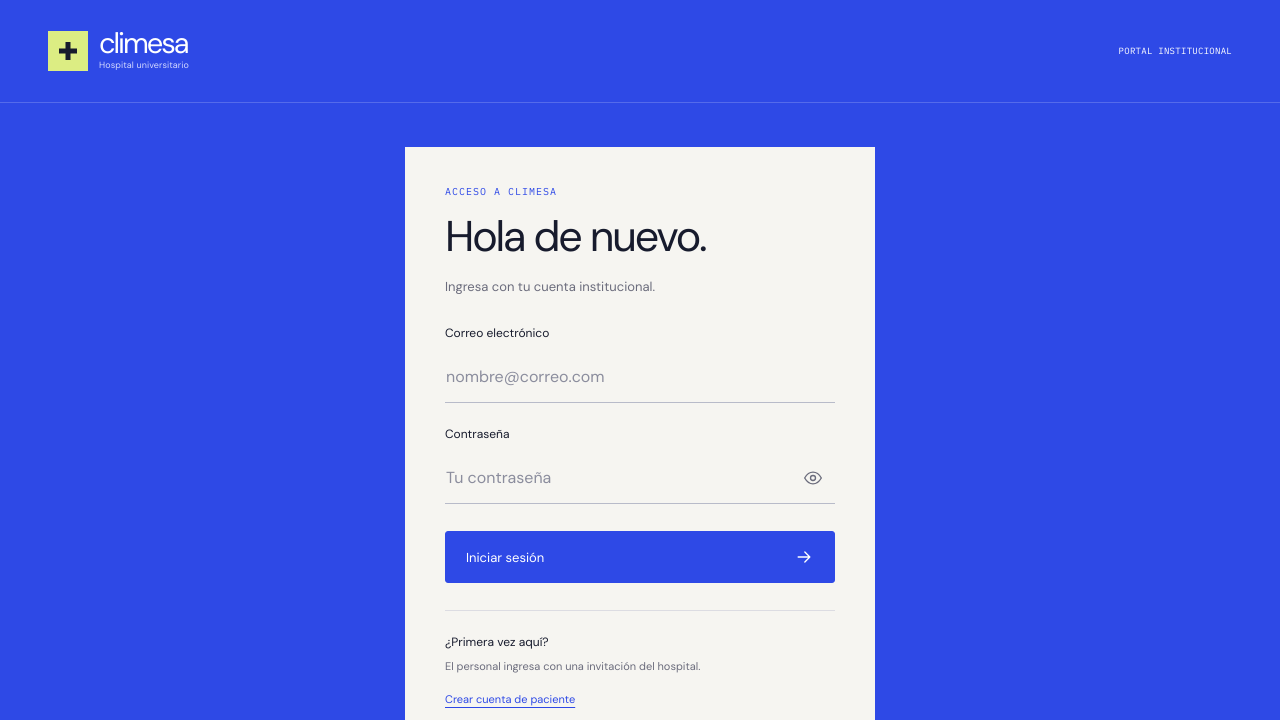
ingreso › si falla la conexión muestra el aviso de red
In the field labelled "Correo electrónico": (640, 377) [445,351,835,403], type "prueba@example.test"
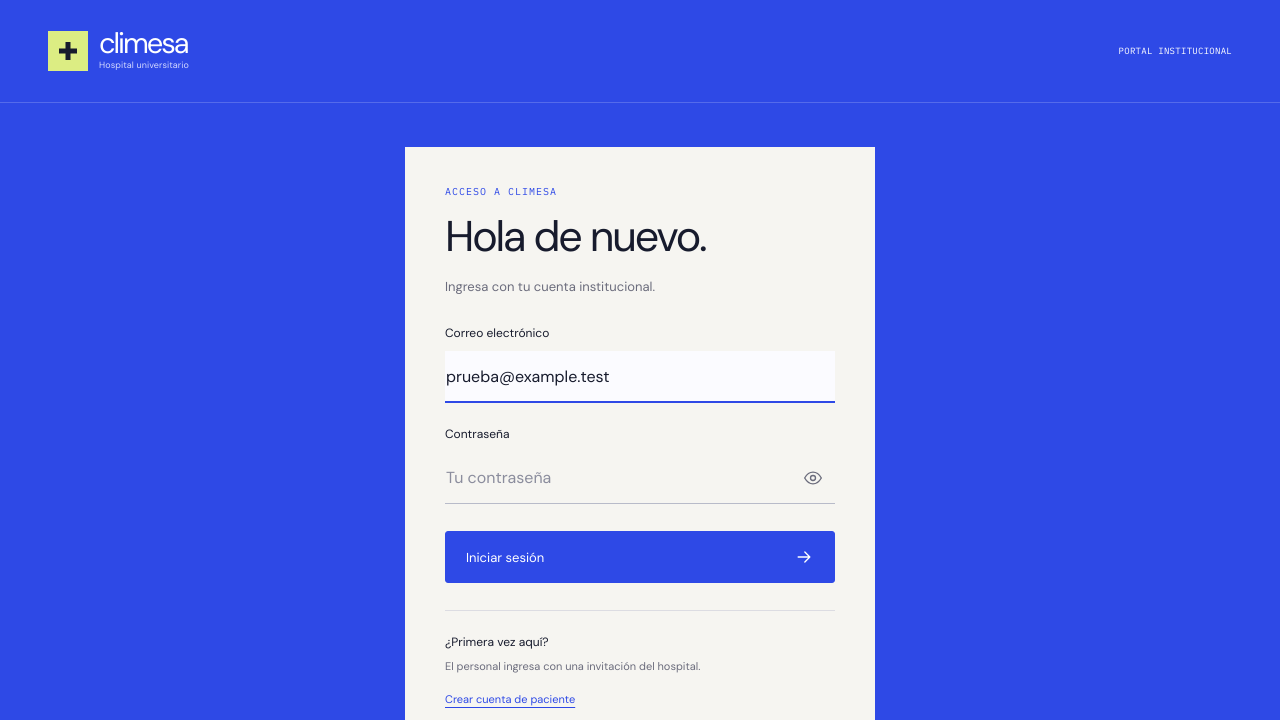
In the password field labelled "Contraseña": (640, 478) [445,452,835,504], type "Clave#1234"
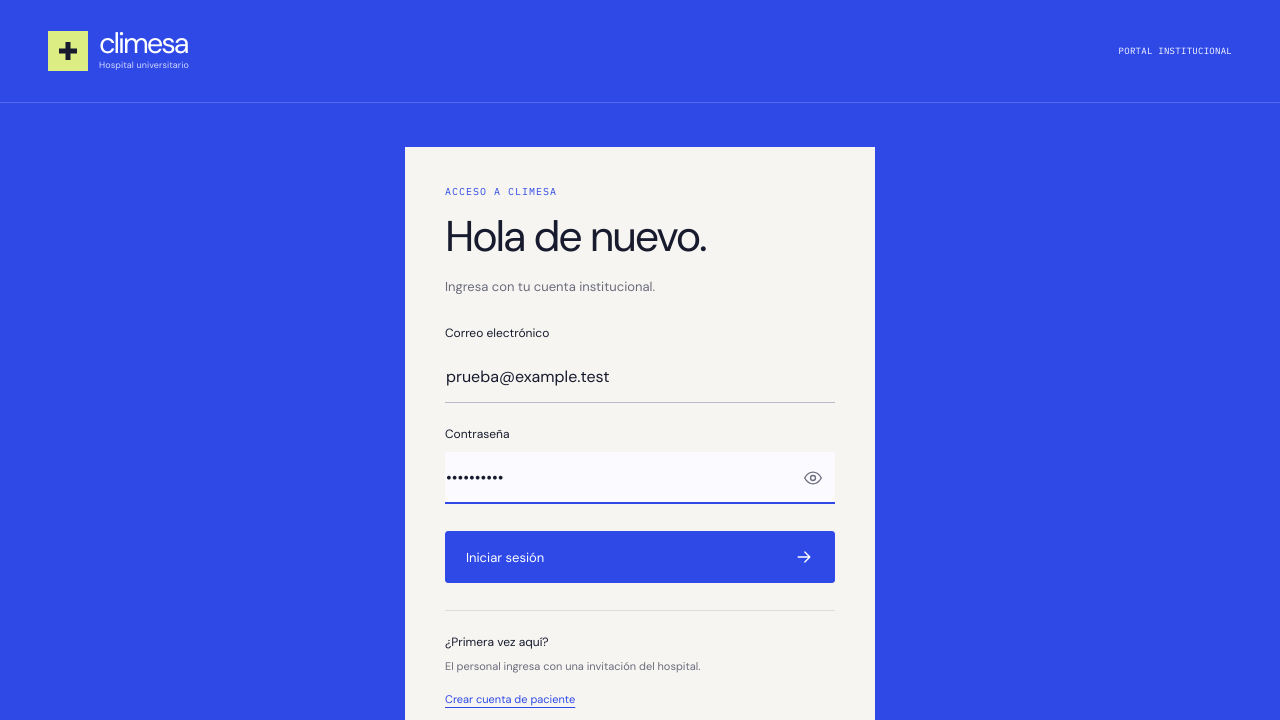
Click the button "Iniciar sesión": (505, 557) [445,531,835,583]
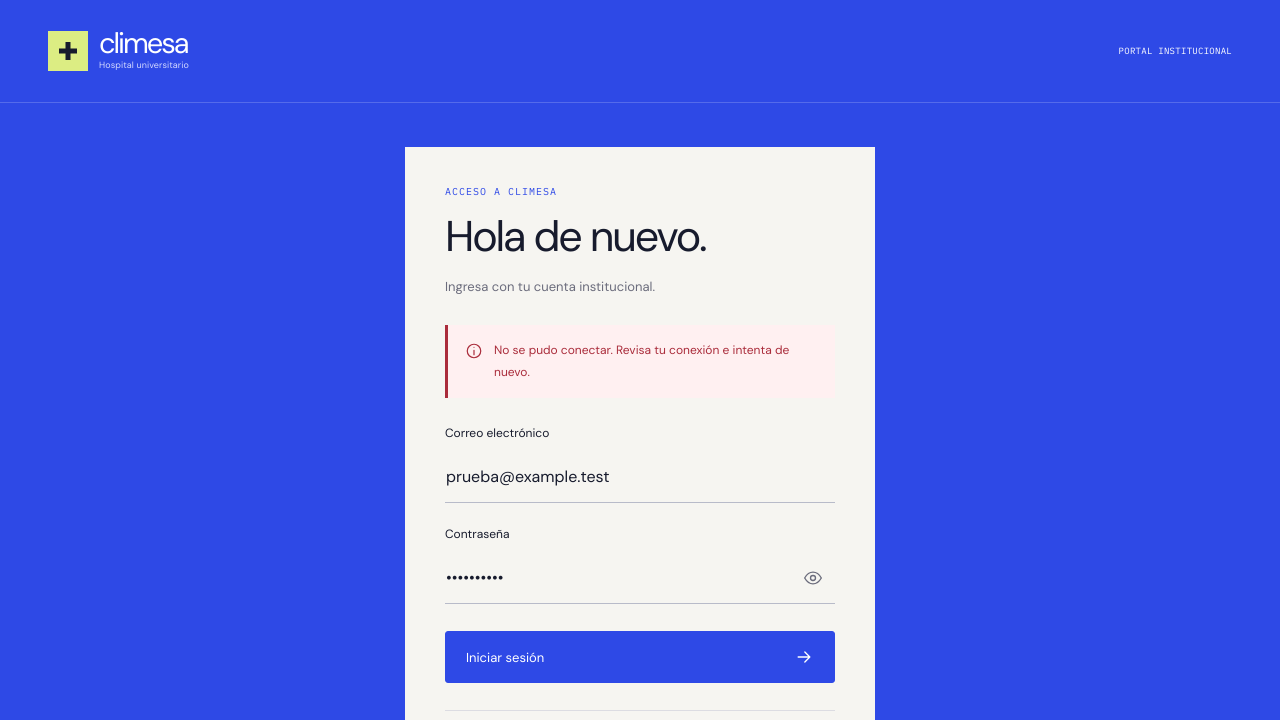
Check: the text "No se pudo conectar. Revisa tu conexión e intenta de nuevo." is shown, box [494,340,818,383]
